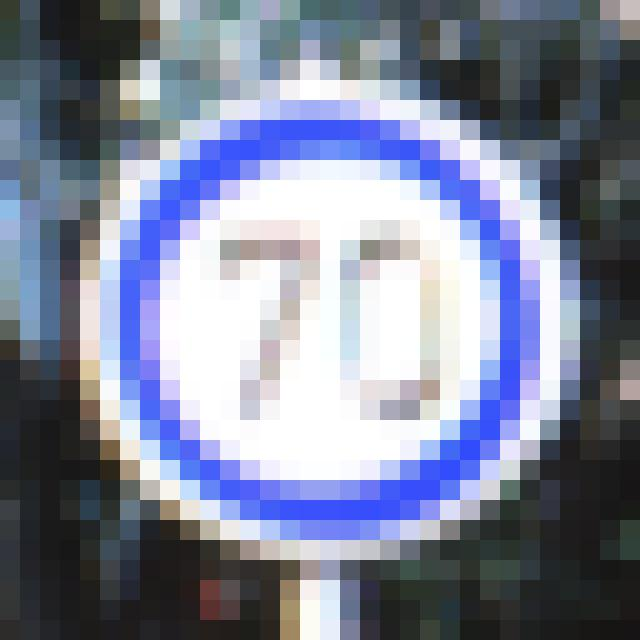SPEED LIMIT 70: (81, 101, 561, 554)
